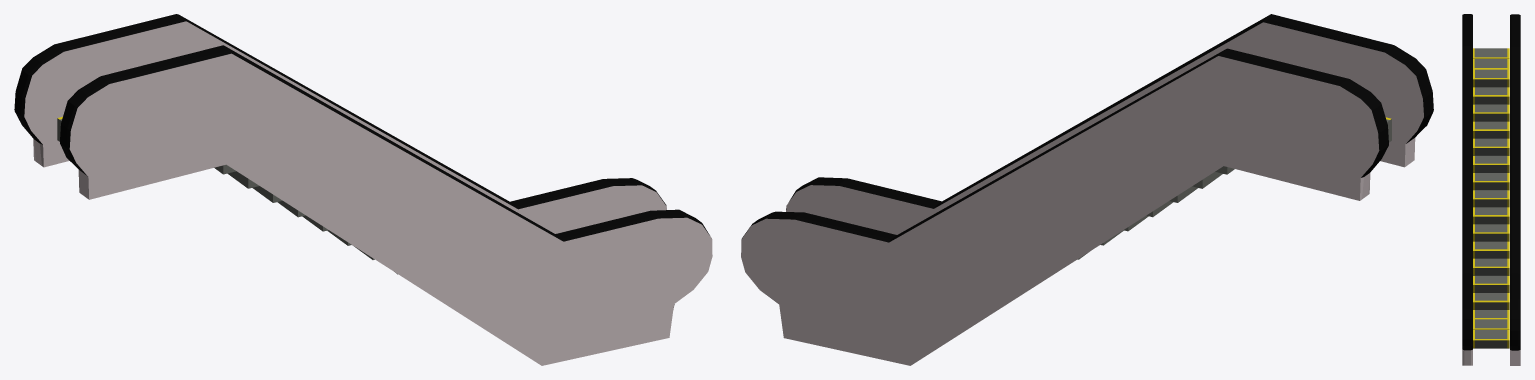
The model's file is escalator.fbx.
3 views of the same model, side by side, from view 1: azimuth 30°, elevation 25°; view 2: azimuth 150°, elevation 25°; view 3: azimuth 270°, elevation 25° (orthographic). The views are drawn at different scales.
Parts seen in each view (by area): view 1: side2, side1, steps; view 2: side1, side2, steps; view 3: steps, side2, side1, STEP1, STEP1.001.
Part boxes in pixels (x1,y1,x2,y2): side2: [60, 45, 712, 365]; side1: [14, 14, 666, 233]; steps: [214, 164, 397, 274]; side1: [741, 48, 1388, 365]; side2: [786, 14, 1433, 234]; steps: [1077, 166, 1234, 259]; steps: [1473, 69, 1509, 319]; side2: [1462, 14, 1472, 365]; side1: [1510, 14, 1520, 365]; STEP1: [1473, 319, 1509, 348]; STEP1.001: [1473, 48, 1509, 69].
Size of the model in its own units: 3707 by 2161 by 548.
